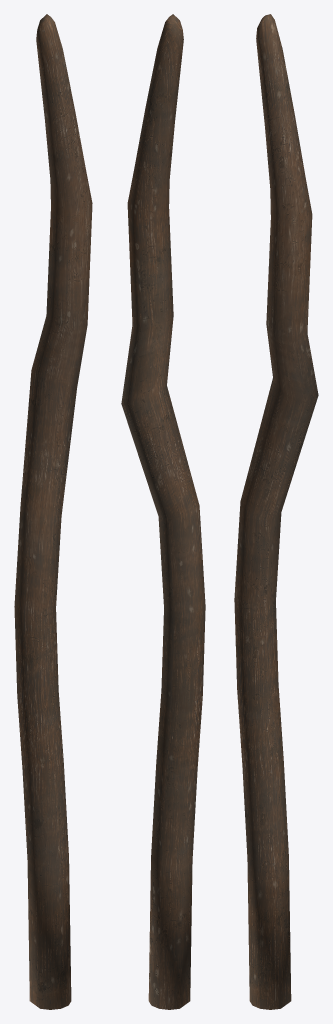
File: SM_BlackMangrove_Tall.fbx
3 renders of one model, left to right at view 1: azimuth 30°, elevation 25°; view 2: azimuth 150°, elevation 25°; view 3: azimuth 330°, elevation 25°, orthographic.
Parts seen in each view (by area): view 1: SM_BlackMangrove_Tall_LOD0; view 2: SM_BlackMangrove_Tall_LOD0; view 3: SM_BlackMangrove_Tall_LOD0.
Boxes of the visible parts, bbox=[...] form: SM_BlackMangrove_Tall_LOD0: bbox=[14, 14, 92, 1009]; SM_BlackMangrove_Tall_LOD0: bbox=[121, 14, 205, 1009]; SM_BlackMangrove_Tall_LOD0: bbox=[234, 14, 318, 1009].
Bounding box in the file's own units: 2.99 × 2.54 × 41.72.
